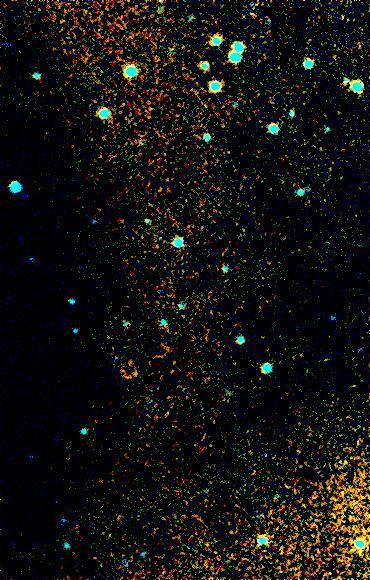star: (120, 359, 150, 389)
